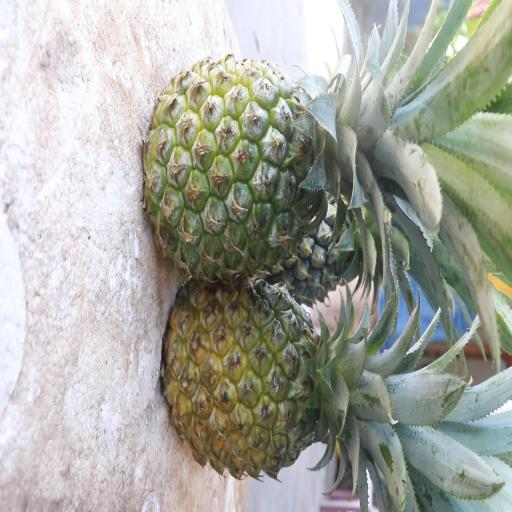------------------------------: (143, 58, 379, 294)
Pineapple - v8 v1: (164, 281, 368, 496)
